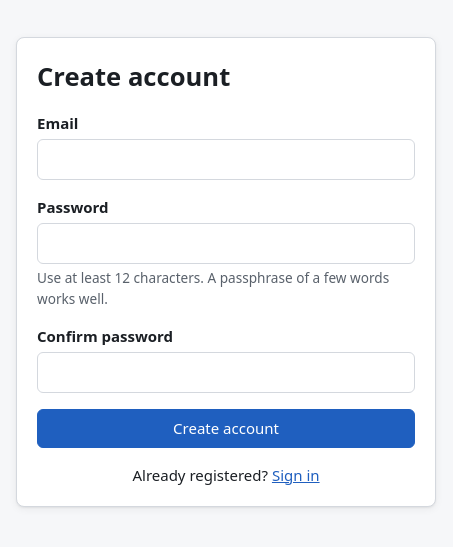
Test case: RegisterPage › shows the 409 message
Type "new@example.com" into the field labelled "Email" at (226, 160), box x1=37 y1=139 x2=415 y2=180
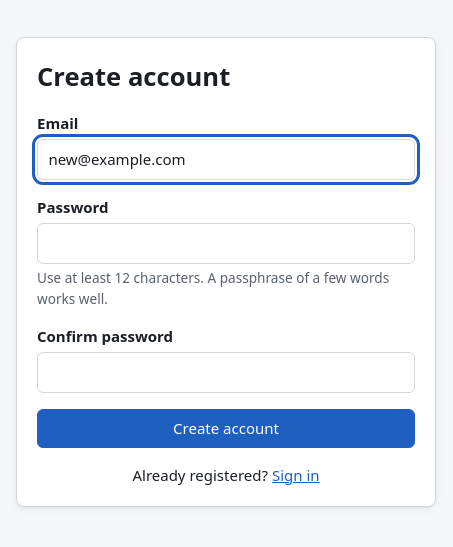
Type "a fine passphrase" into the password field labelled "Password" at (226, 243), box x1=37 y1=223 x2=415 y2=264
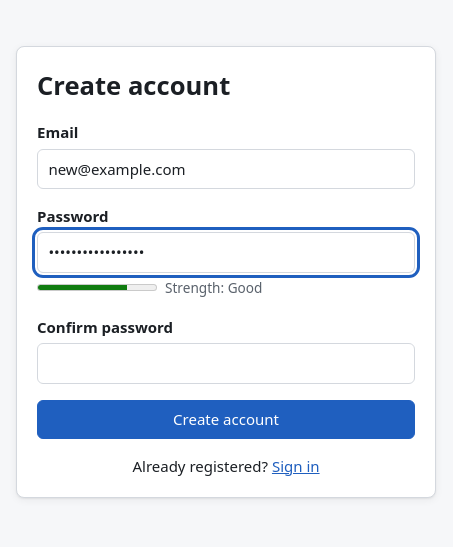
Type "a fine passphrase" into the password field labelled "Confirm password" at (226, 364), box x1=37 y1=343 x2=415 y2=384
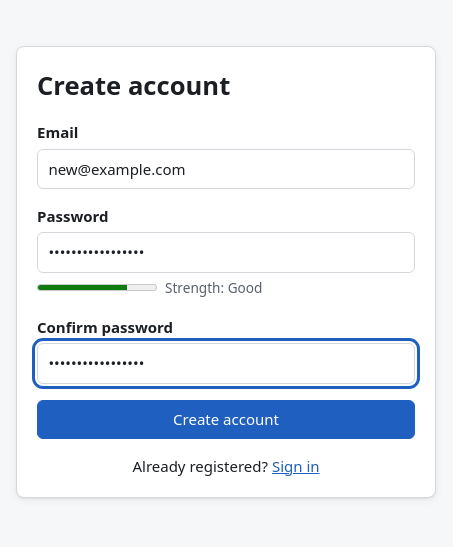
Click the button "Create account" at (226, 419), box x1=37 y1=400 x2=415 y2=439
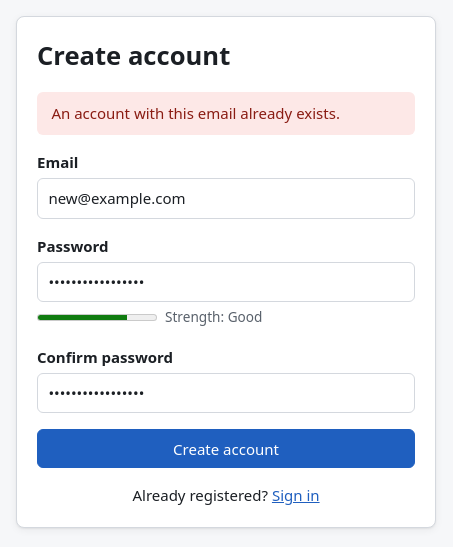
Now the text "An account with this email already exists." is shown, box x1=37 y1=92 x2=415 y2=135
